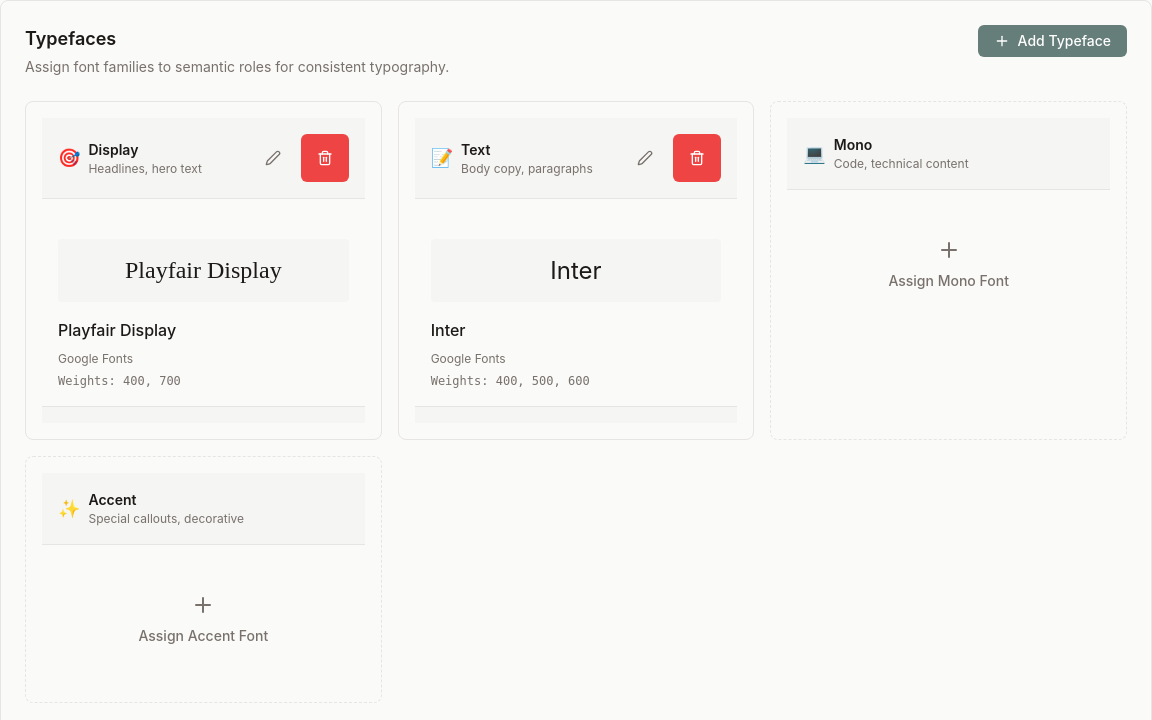
it: TypefaceManager › clicking Add Typeface opens modal for adding new typeface
The width and height of the screenshot is (1152, 720).
Click Add Typeface button (the primary button in the header)
Click the button "Add Typeface": coordinates (1052, 41) [978,25,1127,57]
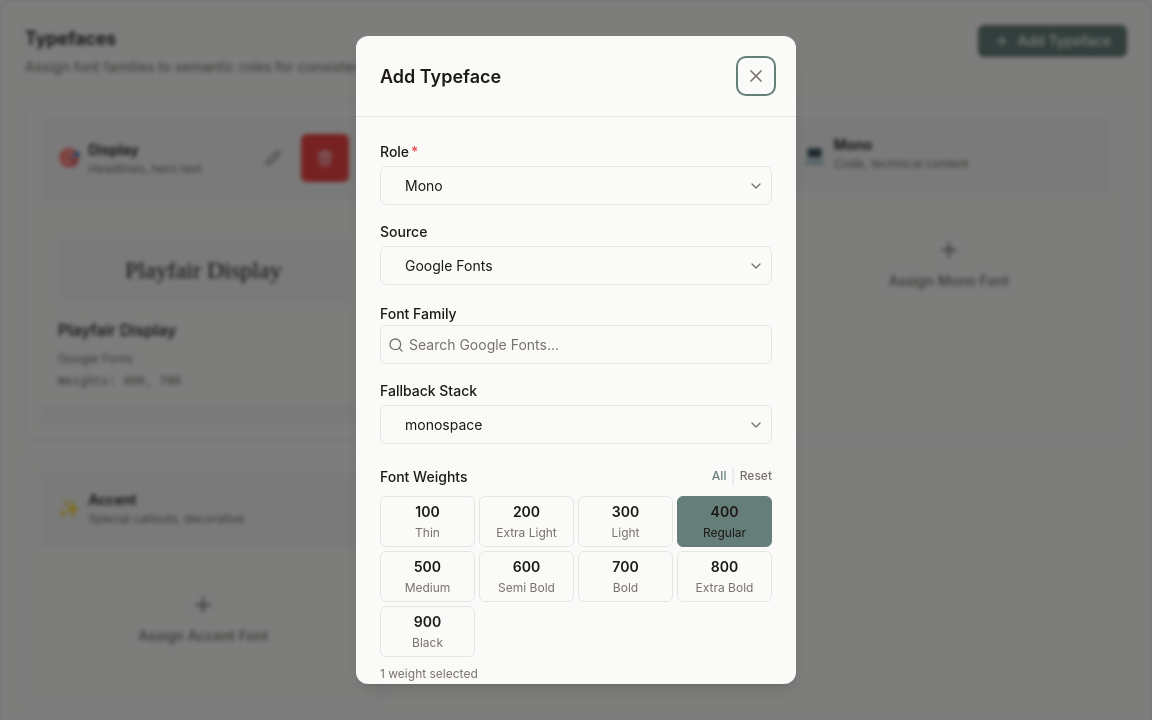
Expected: the text "Source" is shown, [380,223,427,240]
Expected: the text "Fallback Stack" is shown, [380,382,477,399]
